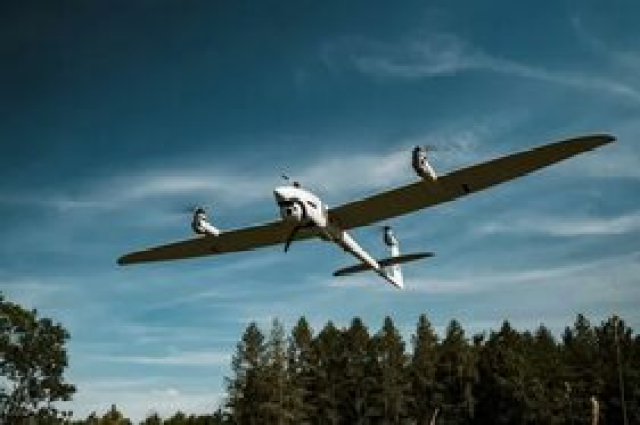military drone: (116, 134, 616, 289)
